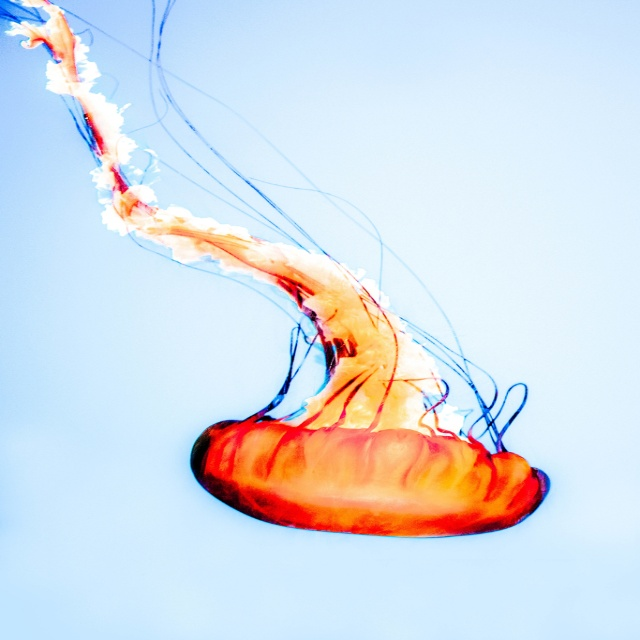Jellyfish: (0, 0, 554, 540)
